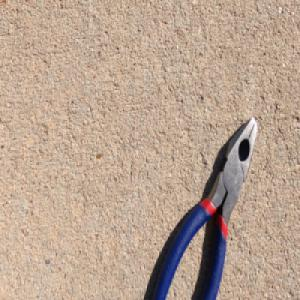Pliers: (150, 115, 259, 300)
